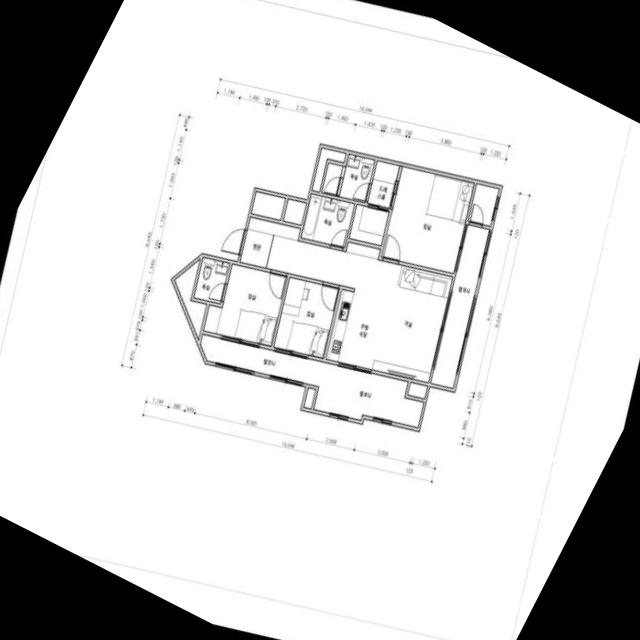background: (0, 0, 640, 640)
space_balconi: (200, 334, 423, 427), (431, 225, 489, 387)
space_bedroom: (381, 166, 474, 273), (204, 264, 287, 345), (275, 278, 339, 356)
space_dressroom: (368, 160, 399, 208)
space_front: (240, 217, 300, 267)
space_kitchen: (326, 288, 389, 369)
space_living_room: (266, 235, 452, 382)
space_other: (175, 259, 206, 339), (349, 204, 389, 245), (312, 148, 346, 191), (468, 183, 499, 226), (251, 192, 285, 220), (283, 199, 306, 224), (408, 382, 427, 398), (304, 388, 315, 408)
space_toilet: (301, 194, 354, 247), (339, 154, 374, 202), (194, 257, 229, 303), (322, 163, 342, 195)
